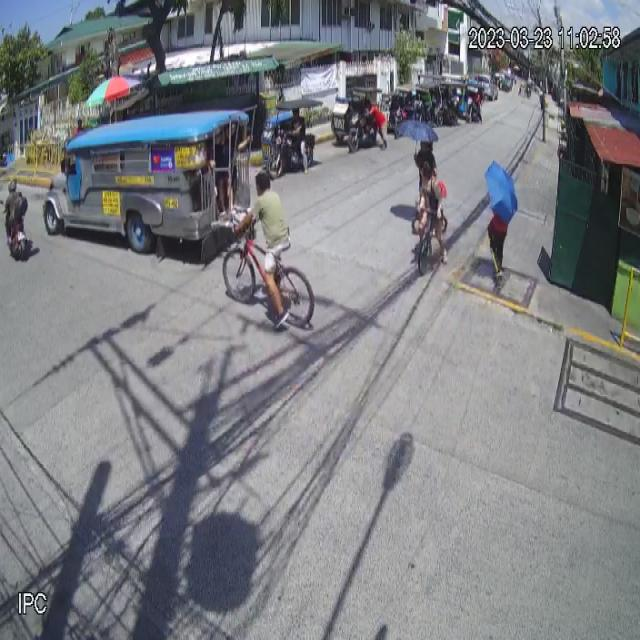Jeep: (42, 109, 258, 264)
